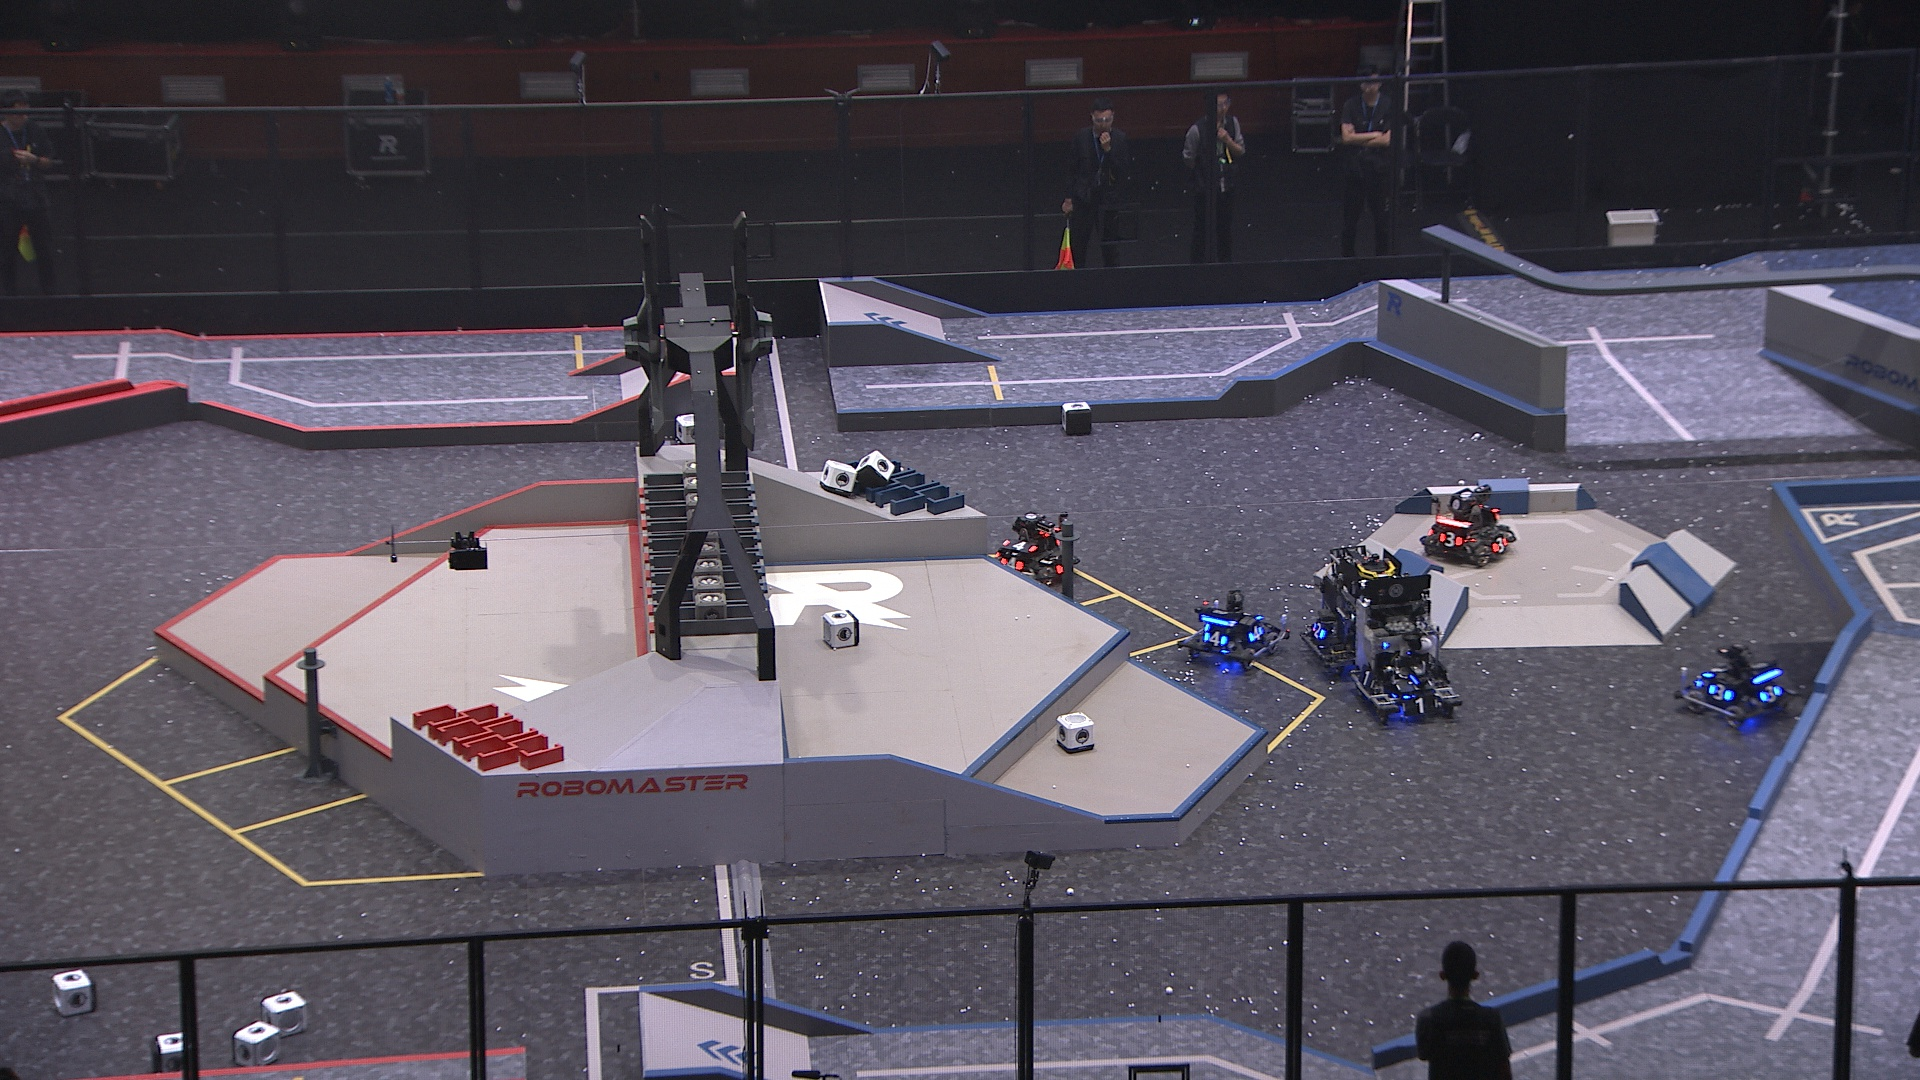armor: (1400, 698, 1443, 717), (1396, 675, 1433, 694), (1002, 537, 1036, 555), (1201, 632, 1229, 650), (1706, 684, 1731, 704), (1759, 683, 1783, 703), (1309, 618, 1328, 644), (997, 556, 1026, 572), (1358, 666, 1375, 692), (1437, 531, 1465, 547), (1700, 665, 1727, 680), (1250, 621, 1266, 645), (1493, 533, 1506, 555)
car: (1346, 576, 1462, 725), (1298, 545, 1408, 670), (1675, 644, 1793, 731), (1171, 589, 1292, 669), (1419, 483, 1518, 571), (988, 510, 1081, 589)
